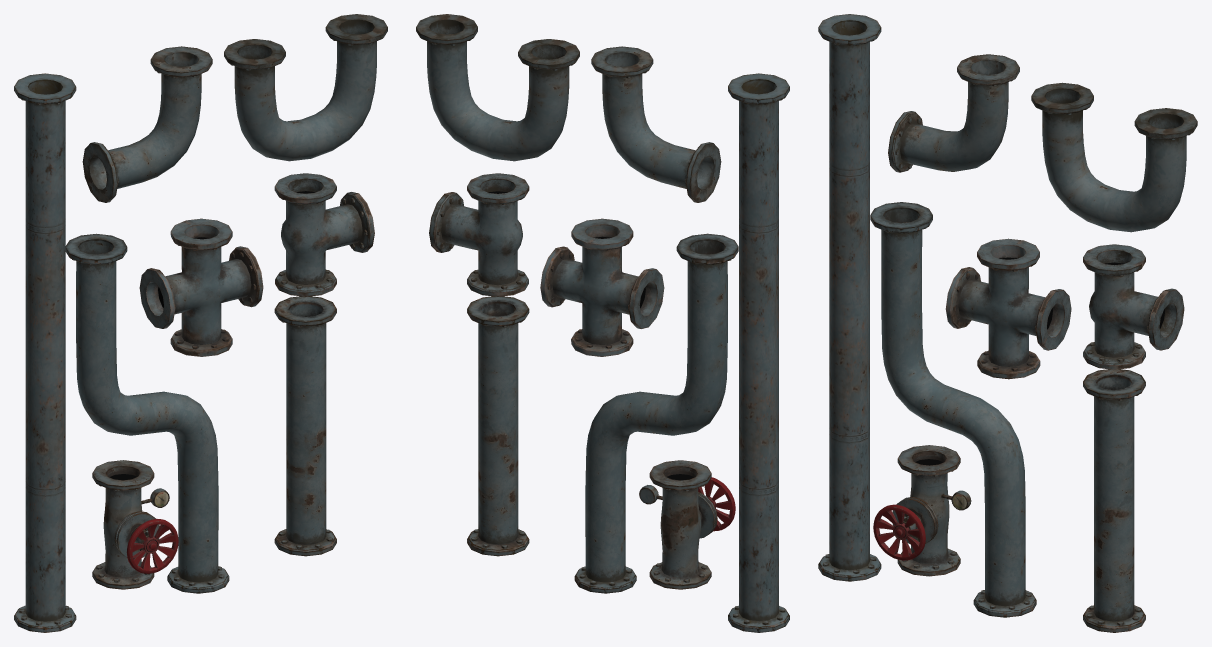
File: modular_industrial_pipes_01_2k.fbx
The picture shows the model from 3 angles, left to right: view 1: azimuth 30°, elevation 25°; view 2: azimuth 150°, elevation 25°; view 3: azimuth 330°, elevation 25°; orthographic projection.
Visible parts, largest first — view 1: modular_industrial_pipes_01_pipe02, modular_industrial_pipes_01_pipe03, modular_industrial_pipes_01_pipe05, modular_industrial_pipes_01_pipe01, modular_industrial_pipes_01_pipe07, modular_industrial_pipes_01_pipe04, modular_industrial_pipes_01_pipe06, modular_industrial_pipes_01_pipe08; view 2: modular_industrial_pipes_01_pipe02, modular_industrial_pipes_01_pipe03, modular_industrial_pipes_01_pipe05, modular_industrial_pipes_01_pipe01, modular_industrial_pipes_01_pipe07, modular_industrial_pipes_01_pipe04, modular_industrial_pipes_01_pipe06, modular_industrial_pipes_01_pipe08; view 3: modular_industrial_pipes_01_pipe02, modular_industrial_pipes_01_pipe03, modular_industrial_pipes_01_pipe05, modular_industrial_pipes_01_pipe01, modular_industrial_pipes_01_pipe07, modular_industrial_pipes_01_pipe06, modular_industrial_pipes_01_pipe04, modular_industrial_pipes_01_pipe08.
Boxes of the visible parts, bbox=[...] form: modular_industrial_pipes_01_pipe02: bbox=[14, 73, 76, 632]; modular_industrial_pipes_01_pipe03: bbox=[65, 233, 229, 593]; modular_industrial_pipes_01_pipe05: bbox=[224, 14, 387, 161]; modular_industrial_pipes_01_pipe01: bbox=[274, 296, 336, 556]; modular_industrial_pipes_01_pipe07: bbox=[139, 218, 263, 356]; modular_industrial_pipes_01_pipe04: bbox=[82, 46, 212, 202]; modular_industrial_pipes_01_pipe06: bbox=[274, 173, 374, 296]; modular_industrial_pipes_01_pipe08: bbox=[92, 460, 178, 589]; modular_industrial_pipes_01_pipe02: bbox=[728, 73, 789, 632]; modular_industrial_pipes_01_pipe03: bbox=[574, 233, 738, 593]; modular_industrial_pipes_01_pipe05: bbox=[416, 14, 579, 161]; modular_industrial_pipes_01_pipe01: bbox=[467, 296, 529, 556]; modular_industrial_pipes_01_pipe07: bbox=[540, 218, 664, 356]; modular_industrial_pipes_01_pipe04: bbox=[591, 46, 721, 202]; modular_industrial_pipes_01_pipe06: bbox=[429, 173, 529, 296]; modular_industrial_pipes_01_pipe08: bbox=[639, 460, 735, 589]; modular_industrial_pipes_01_pipe02: bbox=[818, 14, 881, 581]; modular_industrial_pipes_01_pipe03: bbox=[870, 202, 1036, 617]; modular_industrial_pipes_01_pipe05: bbox=[1031, 82, 1197, 232]; modular_industrial_pipes_01_pipe01: bbox=[1083, 369, 1145, 632]; modular_industrial_pipes_01_pipe07: bbox=[945, 238, 1071, 379]; modular_industrial_pipes_01_pipe06: bbox=[1083, 244, 1184, 369]; modular_industrial_pipes_01_pipe04: bbox=[888, 54, 1019, 172]; modular_industrial_pipes_01_pipe08: bbox=[873, 445, 971, 576].
Bounding box in the file's own units: 140 × 195 × 30.76.
